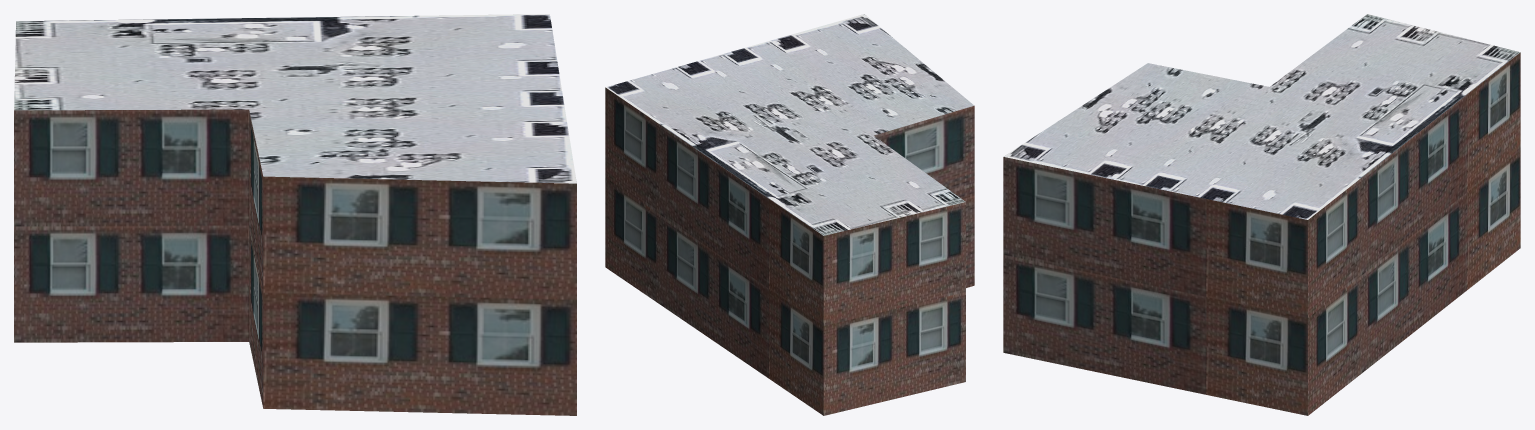
File: ResTex__1056.fbx
3 views of the same model, side by side, from view 1: azimuth 30°, elevation 25°; view 2: azimuth 150°, elevation 25°; view 3: azimuth 270°, elevation 25° (orthographic). The views are drawn at different scales.
Visible parts, largest first — view 1: CityEngineMaterial_14_m, CityEngineMaterial_4_m; view 2: CityEngineMaterial_14_m, CityEngineMaterial_4_m; view 3: CityEngineMaterial_14_m, CityEngineMaterial_4_m.
Boxes of the visible parts, x1=… form: CityEngineMaterial_14_m: x1=14, y1=109, x2=576, y2=415; CityEngineMaterial_4_m: x1=14, y1=14, x2=576, y2=183; CityEngineMaterial_14_m: x1=605, y1=87, x2=974, y2=415; CityEngineMaterial_4_m: x1=606, y1=14, x2=973, y2=235; CityEngineMaterial_14_m: x1=1003, y1=52, x2=1520, y2=415; CityEngineMaterial_4_m: x1=1003, y1=14, x2=1520, y2=219.
Size of the model in its own units: 13.53 by 6 by 14.36.
Materials: 2 (2 with a texture image).
